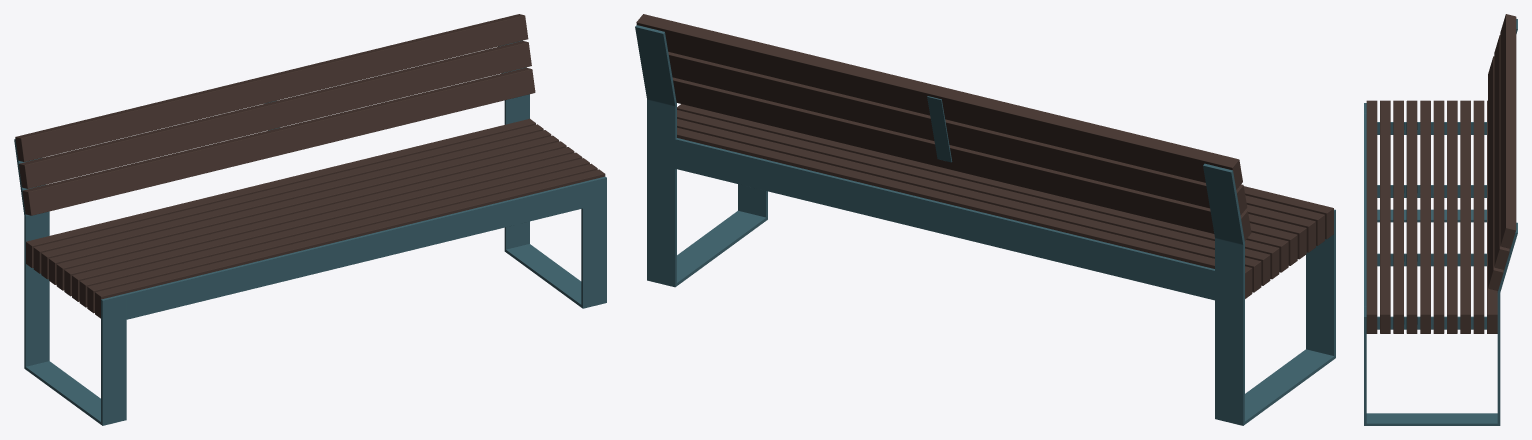
3 views of the same model, side by side, from view 1: azimuth 30°, elevation 25°; view 2: azimuth 150°, elevation 25°; view 3: azimuth 270°, elevation 25° (orthographic). The views are drawn at different scales.
Parts seen in each view (by area): view 1: K5_1900; view 2: K5_1900; view 3: K5_1900.
Part boxes in pixels (bbox=[...]): K5_1900: bbox=[14, 14, 606, 425]; K5_1900: bbox=[635, 14, 1335, 425]; K5_1900: bbox=[1364, 14, 1517, 425].
Bounding box in the file's own units: 1.89 × 0.8178 × 0.576.
